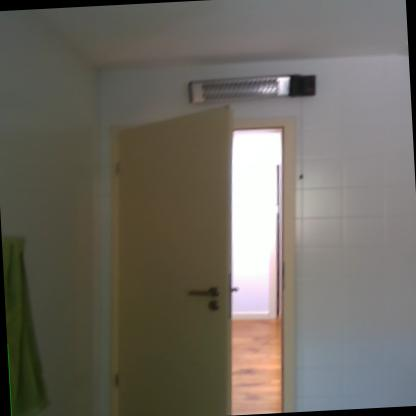semi: (87, 94, 313, 415)
